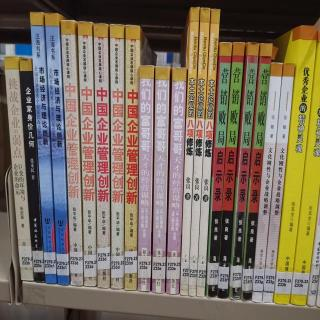book-spine: (272, 25, 318, 306), (238, 44, 274, 302), (259, 63, 296, 304), (27, 10, 58, 286), (249, 60, 284, 302), (214, 41, 246, 299), (228, 41, 258, 300), (43, 12, 70, 287), (195, 8, 220, 298), (3, 55, 34, 283), (187, 8, 211, 299), (178, 7, 201, 296), (205, 43, 231, 298), (61, 18, 84, 289), (18, 57, 45, 284), (119, 24, 142, 290), (76, 21, 96, 287), (165, 65, 187, 295), (93, 24, 111, 289), (135, 65, 153, 291), (151, 66, 168, 292), (110, 24, 124, 290)
